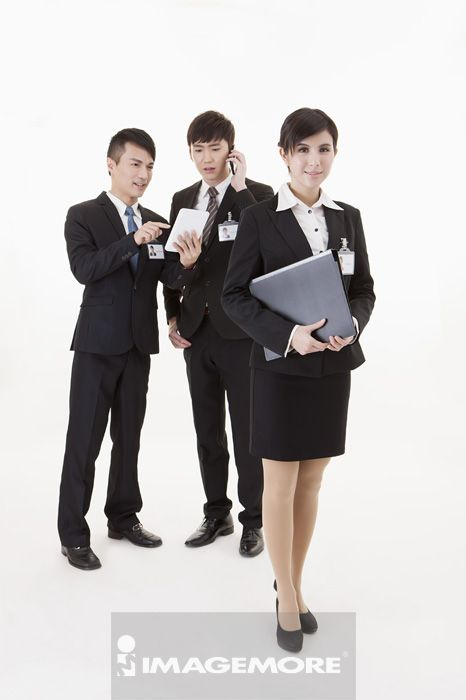talk: (191, 142, 249, 185)
